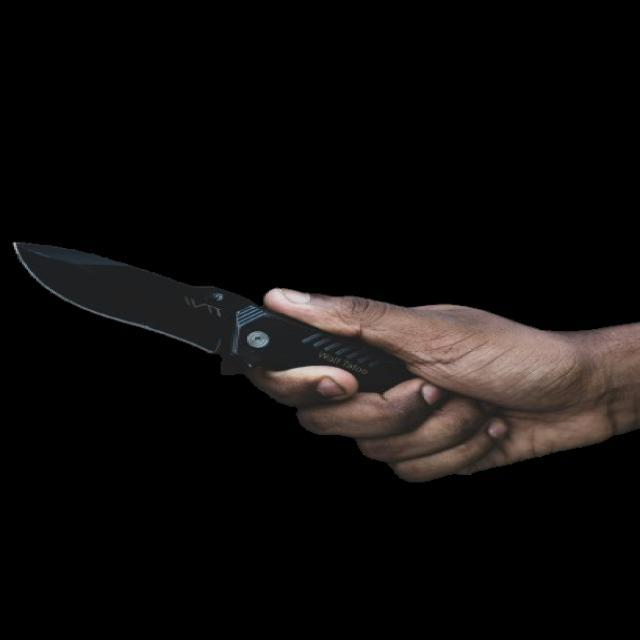knife: (11, 245, 638, 500)
